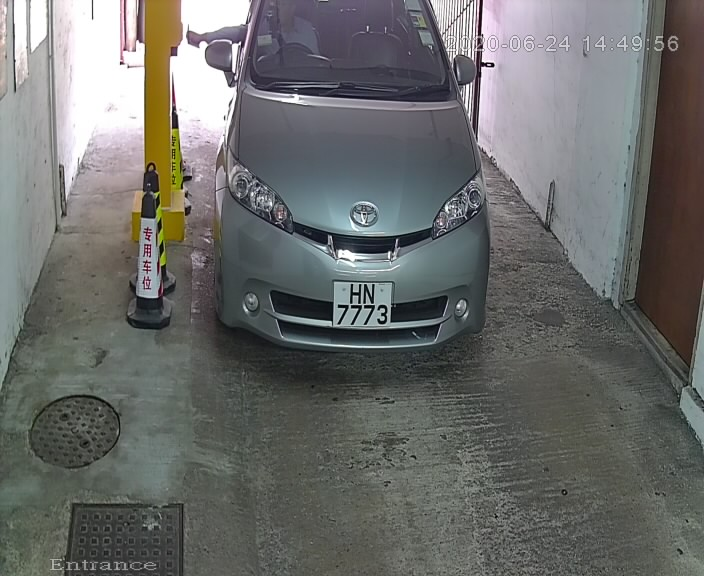Car: (187, 1, 518, 397)
License Plate: (332, 276, 398, 336)
